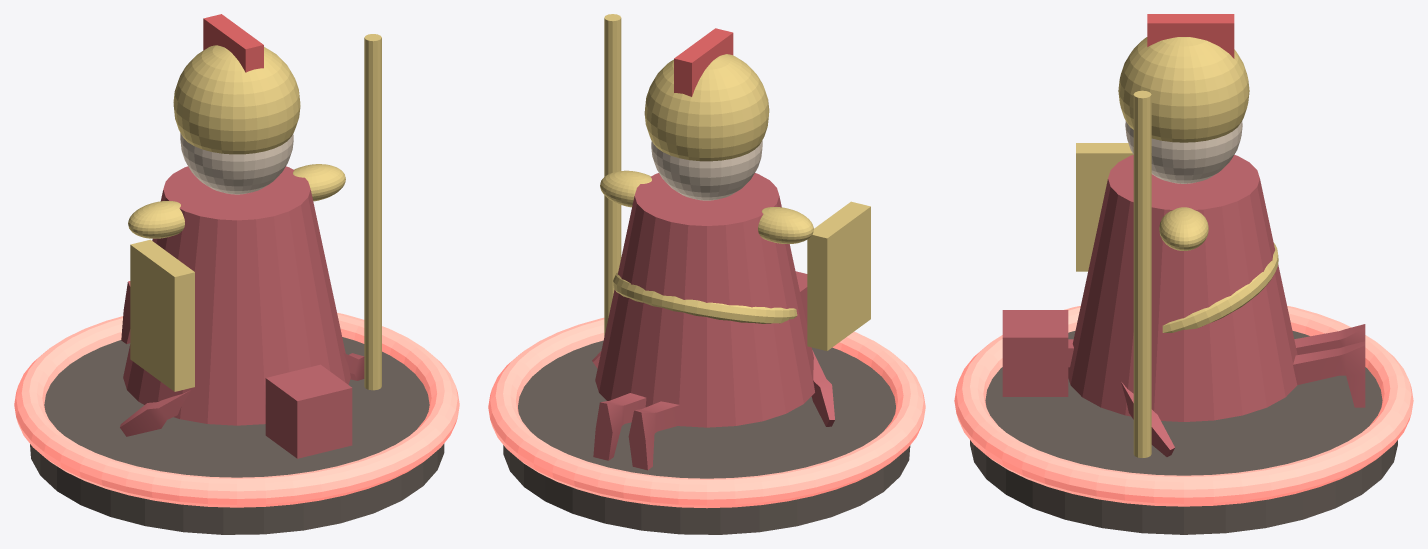
File: enemy_guard.glb
3 renders of one model, left to right at view 1: azimuth 30°, elevation 25°; view 2: azimuth 150°, elevation 25°; view 3: azimuth 270°, elevation 25°, orthographic. The views are drawn at different scales.
Visible parts, largest first — view 1: Cone, Cylinder, Torus, Sphere.003, Proxy, Cube.001, Cylinder.001, Sphere.002, Cube, Sphere, Sphere.001; view 2: Cone, Cylinder, Torus, Sphere.003, Cube.001, Proxy, Cylinder.001, Sphere.002, Torus.001, Cube, Sphere, Sphere.001; view 3: Cone, Cylinder, Torus, Sphere.003, Proxy, Cylinder.001, Cube.001, Sphere.002, Cube, Torus.001, Sphere.001.
Boxes of the visible parts, x1,y1,x2,y2 form: Cone: (123, 166, 350, 425); Cylinder: (30, 337, 444, 534); Torus: (14, 312, 459, 507); Sphere.003: (173, 45, 300, 154); Proxy: (120, 281, 364, 458); Cube.001: (130, 239, 194, 391); Cylinder.001: (364, 34, 381, 390); Sphere.002: (180, 133, 293, 194); Cube: (203, 14, 263, 72); Sphere: (128, 201, 184, 238); Sphere.001: (293, 164, 345, 201); Cone: (595, 173, 814, 427); Cylinder: (503, 340, 910, 534); Torus: (488, 317, 925, 508); Sphere.003: (644, 54, 769, 161); Cube.001: (807, 201, 870, 350); Proxy: (592, 271, 834, 470); Cylinder.001: (604, 14, 621, 336); Sphere.002: (651, 140, 762, 200); Torus.001: (613, 272, 797, 323); Cube: (674, 28, 733, 96); Sphere: (758, 207, 813, 243); Sphere.001: (600, 170, 651, 207); Cone: (1068, 155, 1297, 421); Cylinder: (970, 330, 1397, 534); Torus: (954, 305, 1413, 506); Sphere.003: (1118, 37, 1249, 142); Proxy: (1002, 310, 1365, 456); Cylinder.001: (1133, 90, 1151, 457); Cube.001: (1076, 143, 1133, 271); Sphere.002: (1125, 121, 1242, 183); Cube: (1147, 14, 1234, 58); Torus.001: (1162, 243, 1278, 332); Sphere.001: (1159, 207, 1208, 250).
Bounding box in the file's own units: 1.33 × 1.36 × 1.33.
